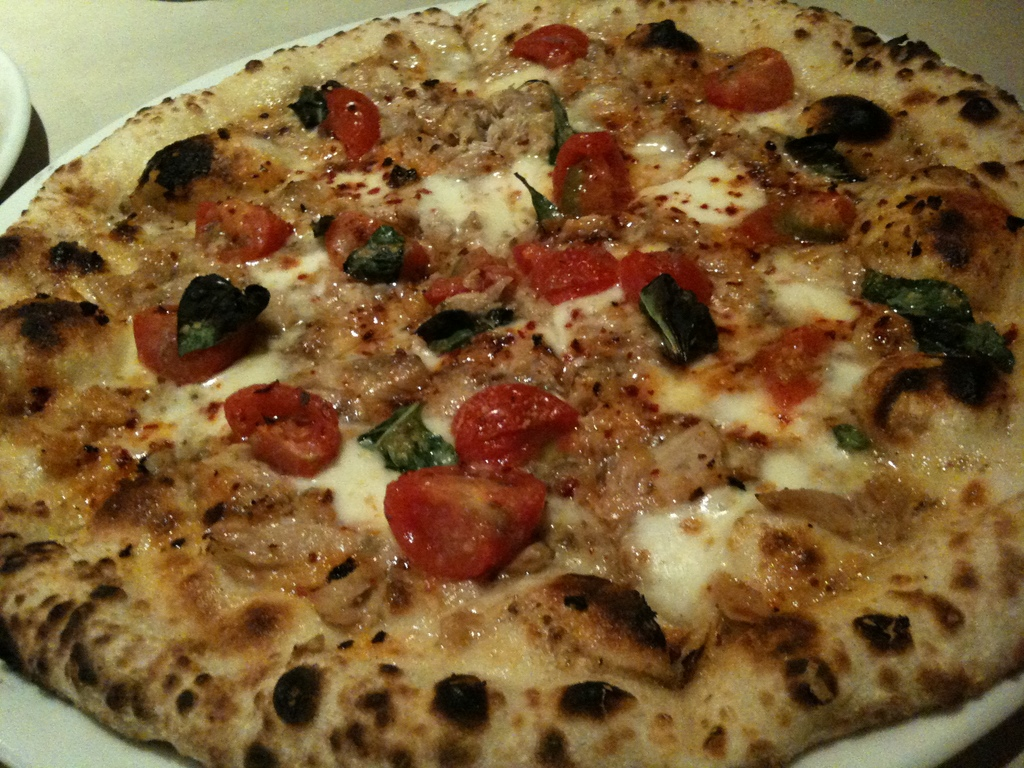Pizza: (3, 0, 1023, 767)
